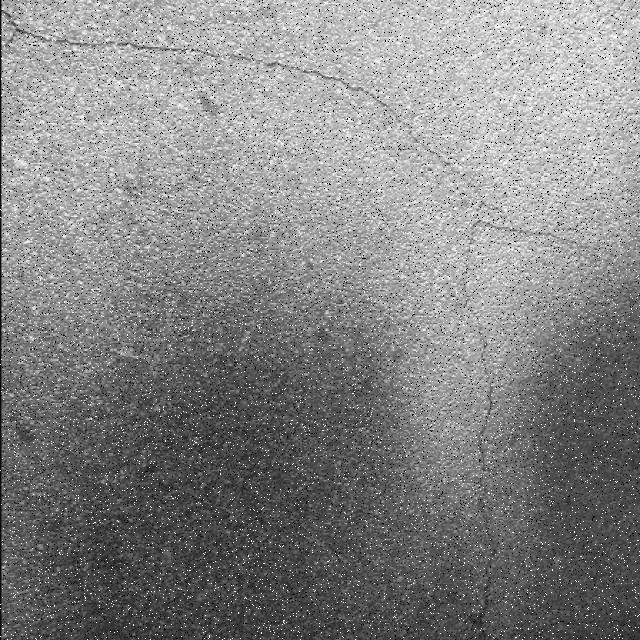Crack: (1, 10, 580, 310), (471, 310, 494, 635)
